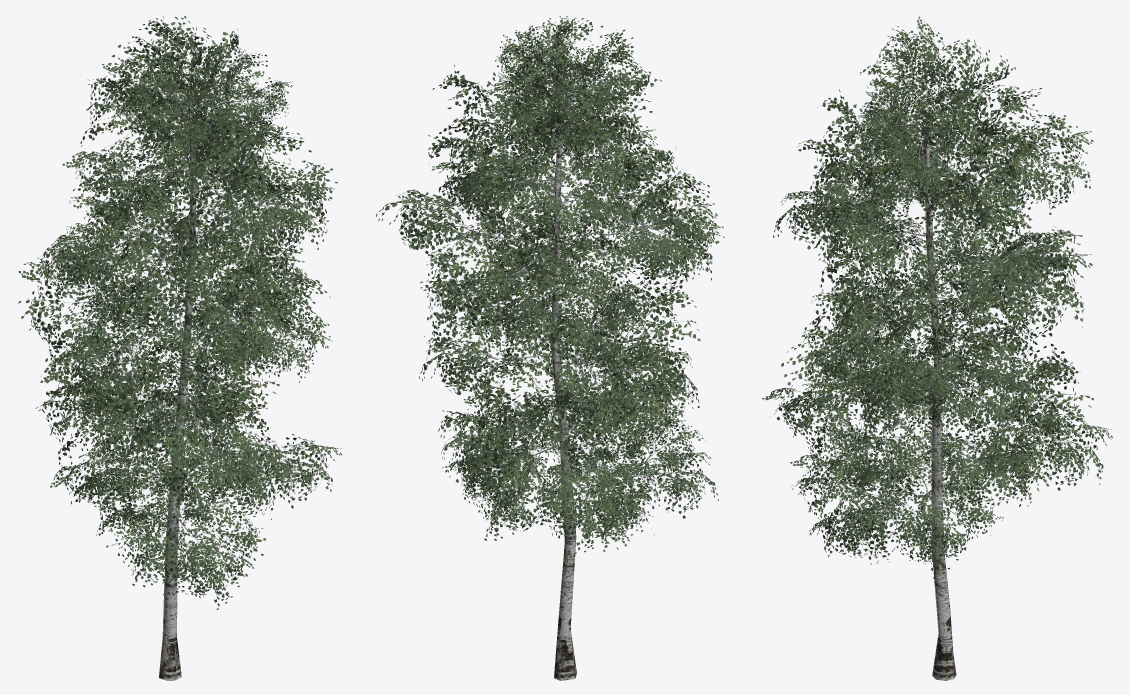
The model's file is tree3.glb.
The picture shows the model from 3 angles, left to right: view 1: azimuth 30°, elevation 25°; view 2: azimuth 150°, elevation 25°; view 3: azimuth 270°, elevation 25°; orthographic projection.
Parts seen in each view (by area): view 1: 杉树02; view 2: 杉树02; view 3: 杉树02.
Part boxes in pixels (left/top/right/bottom): 杉树02: left=18, top=16, right=341, bottom=680; 杉树02: left=376, top=16, right=724, bottom=680; 杉树02: left=762, top=16, right=1112, bottom=680.
Bounding box in the file's own units: 2.8 × 6.02 × 2.99.
2 materials, 2 textured.
